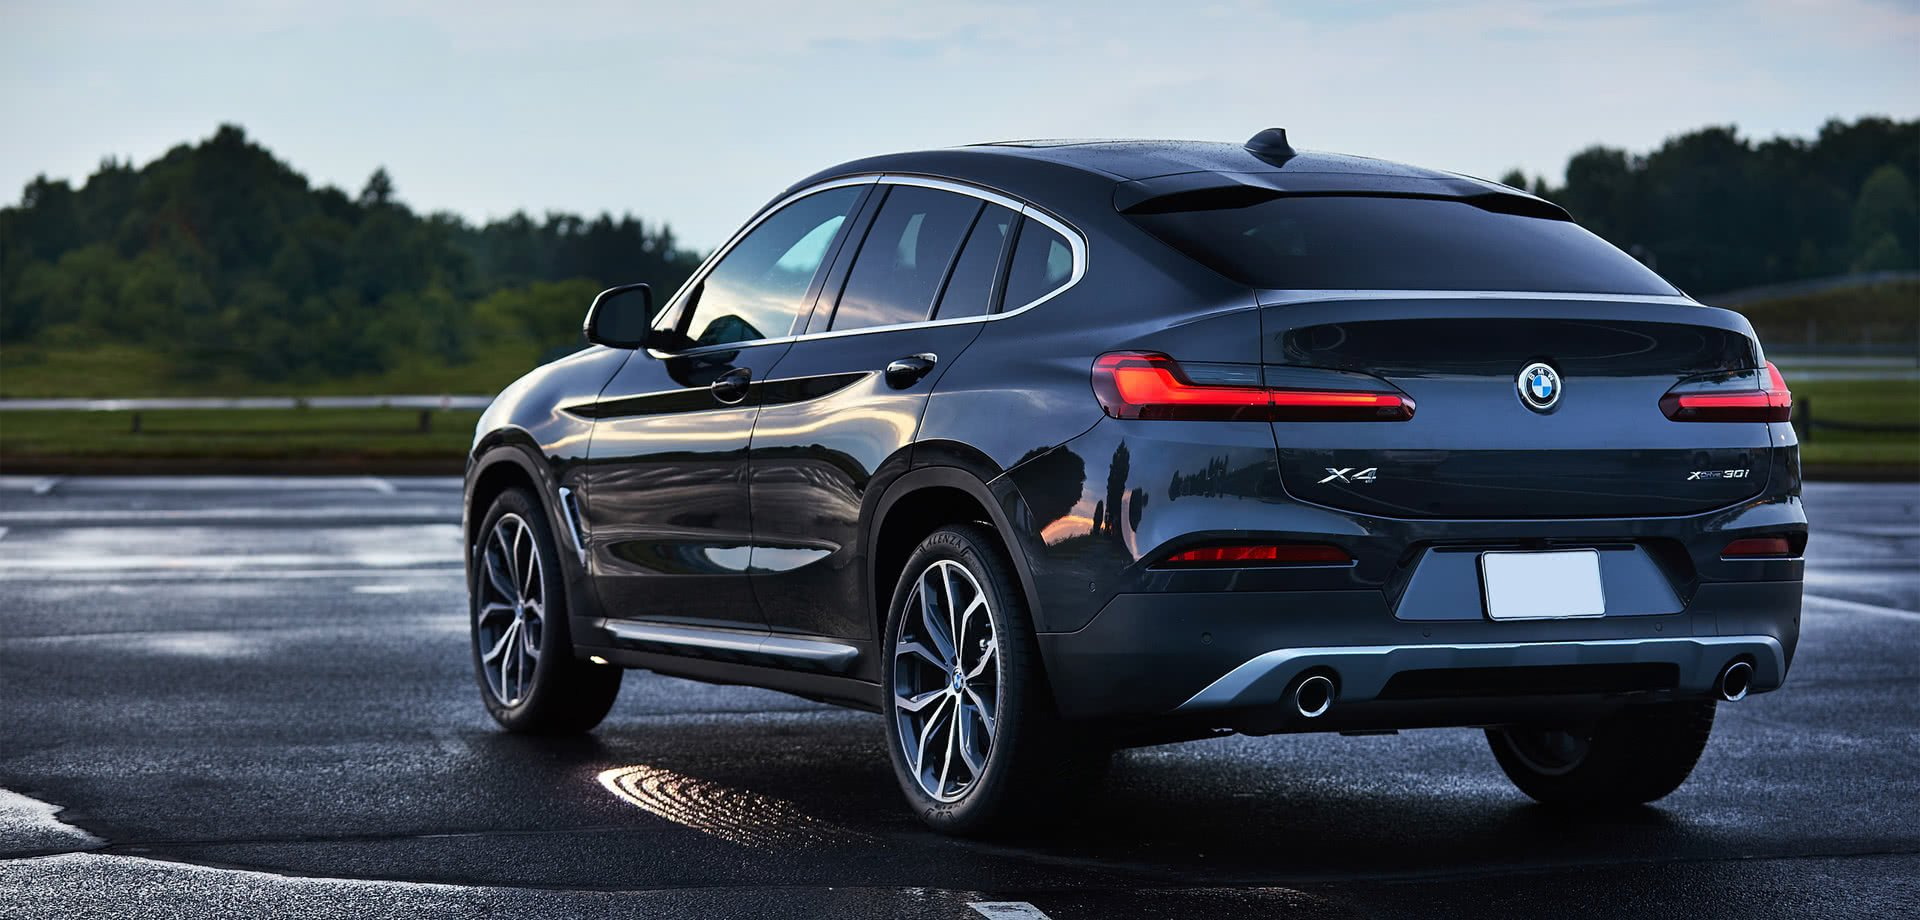car: (464, 129, 1813, 818)
